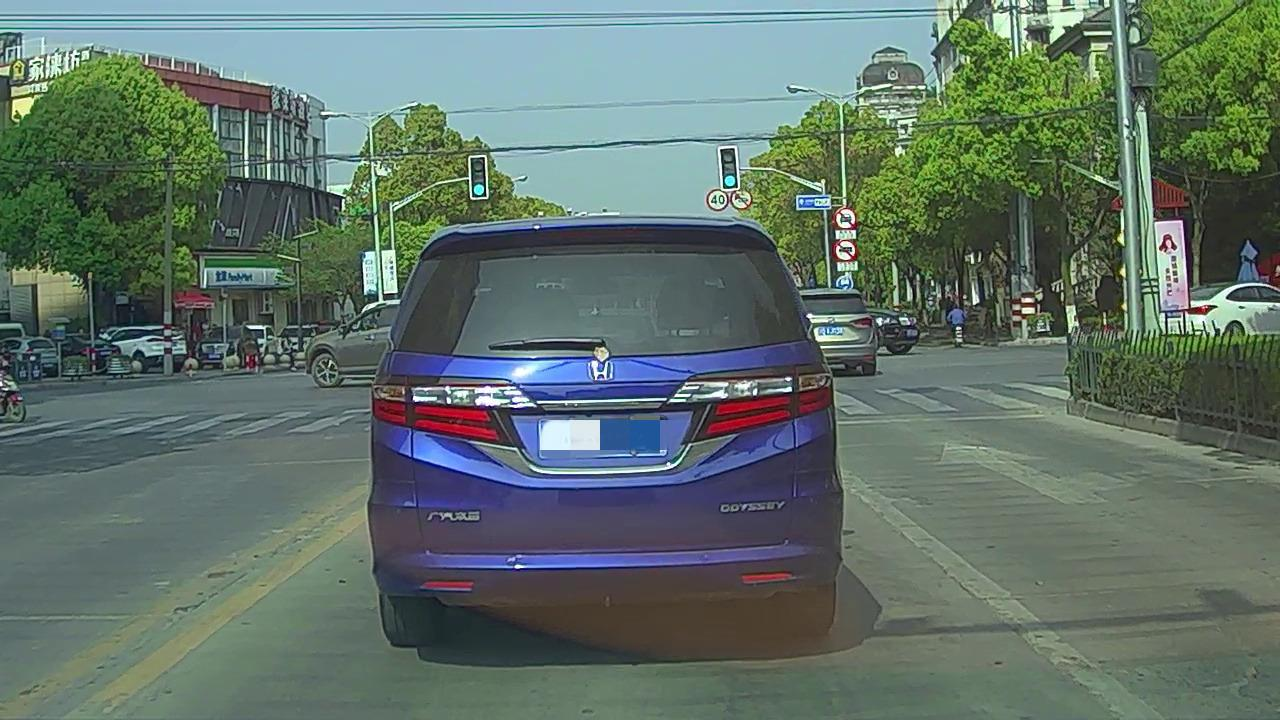traffic_light: (720, 148, 738, 190), (470, 157, 487, 195)
